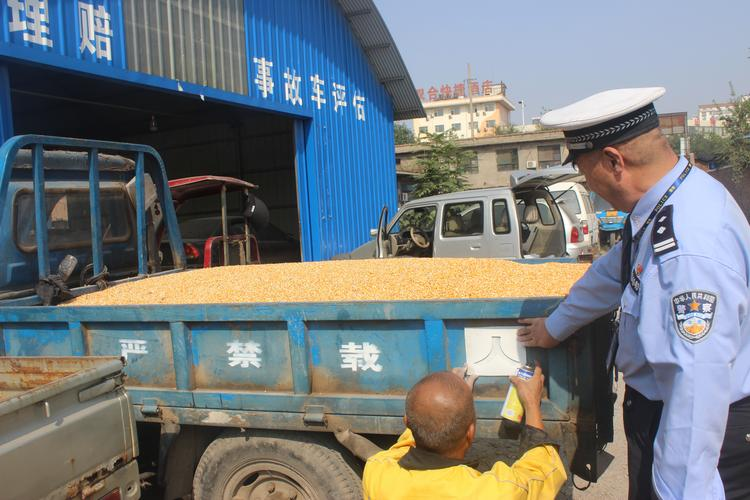empty: (16, 112, 622, 475)
